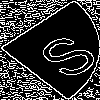S: (25, 25, 100, 82)
